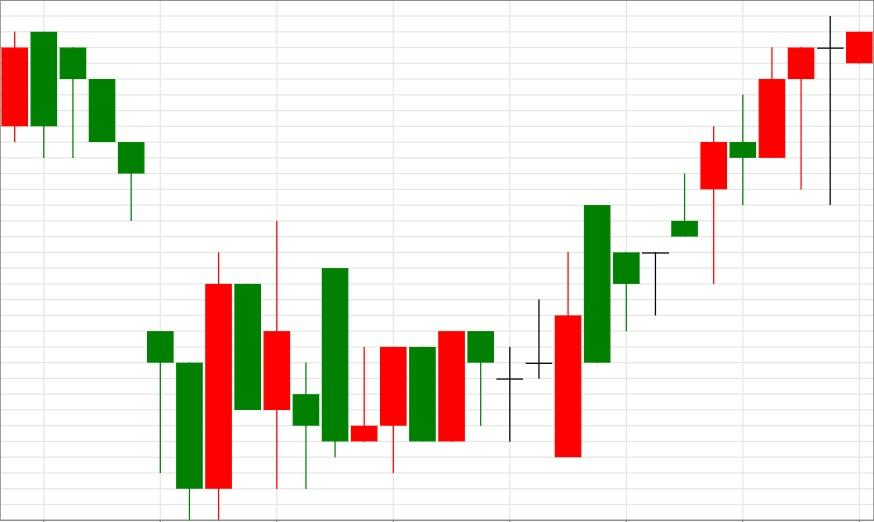bullish_engulfing_rise: (0, 31, 233, 520)
hammer_rise: (0, 31, 175, 473)
hanging_man_fall: (554, 47, 816, 457)
inverse_hammer_rise: (233, 220, 379, 489)
three_black_crows_fall: (0, 31, 145, 222)
